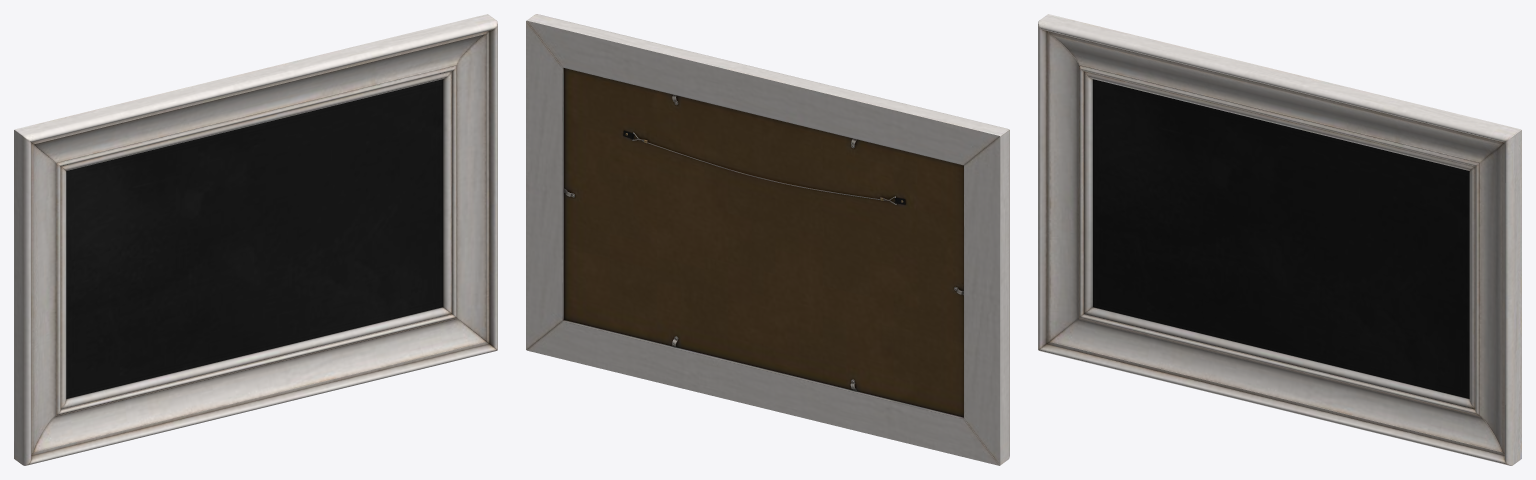
3 views of the same model, side by side, from view 1: azimuth 30°, elevation 25°; view 2: azimuth 150°, elevation 25°; view 3: azimuth 330°, elevation 25° (orthographic).
Parts seen in each view (by area): view 1: hanging_picture_frame_02; view 2: hanging_picture_frame_02; view 3: hanging_picture_frame_02.
Boxes of the visible parts, <box> form: hanging_picture_frame_02: <box>14,14,497,465</box>; hanging_picture_frame_02: <box>526,14,1009,465</box>; hanging_picture_frame_02: <box>1038,14,1521,465</box>.
Bounding box in the file's own units: 0.7518 × 0.5 × 0.0331.
Materials: 3 (3 with a texture image).
